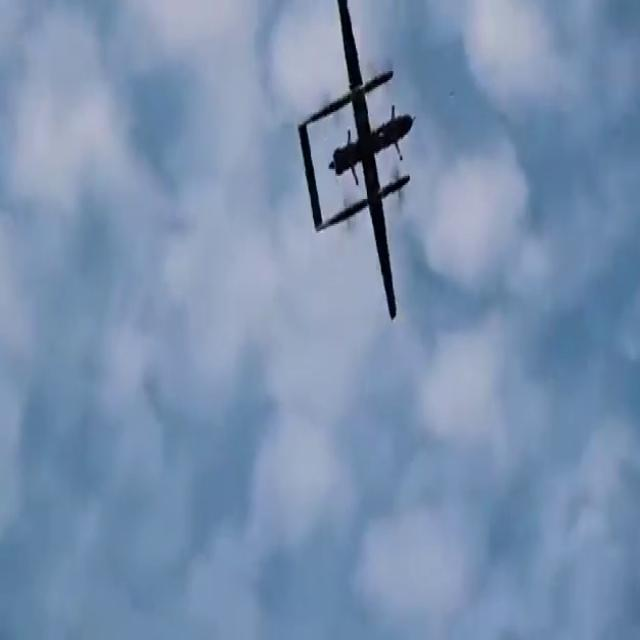iha: (286, 2, 414, 322)
